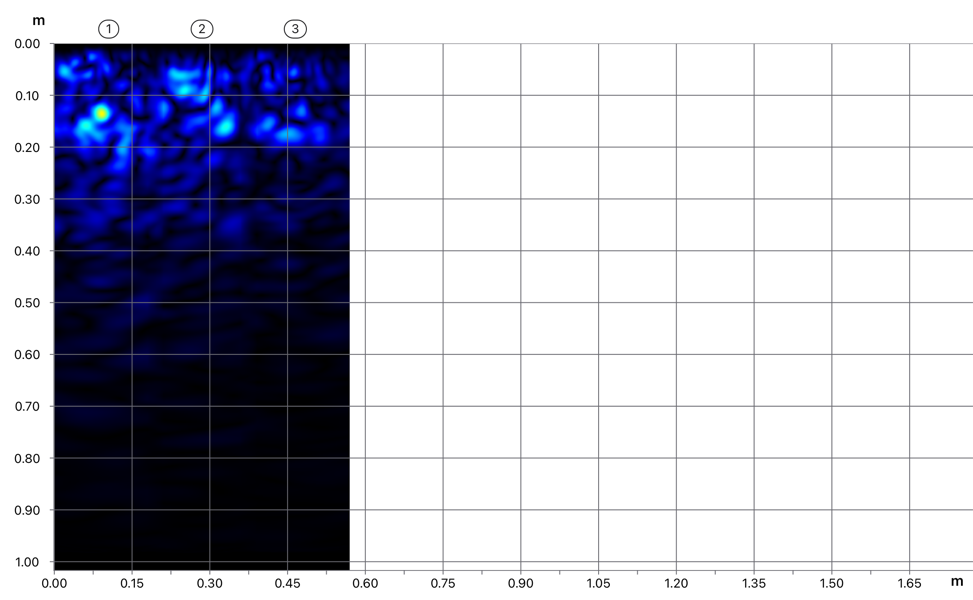crop: (1, 2, 352, 330)
